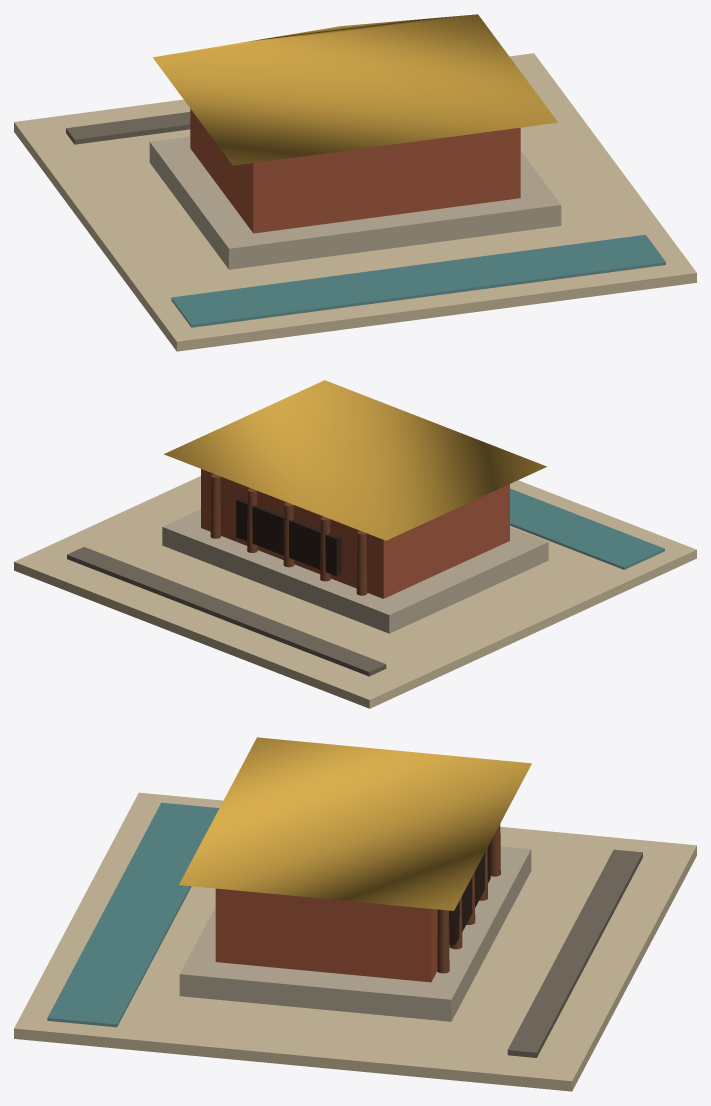
Rendered from model-medium.glb.
3 views of the same model, one above another, from view 1: azimuth 30°, elevation 25°; view 2: azimuth 150°, elevation 25°; view 3: azimuth 270°, elevation 25° (orthographic). The views are drawn at different scales.
Parts seen in each view (by area): view 1: context_site_plinth, sweeping_tiled_roof, main_hall_wall_volume, raised_ceremonial_platform, context_water_edge, front_scale_strip; view 2: context_site_plinth, sweeping_tiled_roof, raised_ceremonial_platform, main_hall_wall_volume, front_scale_strip, context_water_edge, central_shadow_door, front_column_5, front_column_1, front_column_2; view 3: context_site_plinth, sweeping_tiled_roof, main_hall_wall_volume, raised_ceremonial_platform, context_water_edge, front_scale_strip, central_shadow_door, front_column_5.
Boxes of the visible parts, box(x1,y1,x2,y2) form: context_site_plinth: box(14, 53, 696, 351); sweeping_tiled_roof: box(153, 14, 557, 165); main_hall_wall_volume: box(190, 109, 520, 233); raised_ceremonial_platform: box(149, 136, 561, 269); context_water_edge: box(171, 234, 665, 327); front_scale_strip: box(66, 112, 190, 144); context_site_plinth: box(14, 476, 696, 708); sweeping_tiled_roof: box(164, 380, 546, 540); raised_ceremonial_platform: box(162, 509, 548, 633); main_hall_wall_volume: box(201, 469, 509, 598); front_scale_strip: box(67, 547, 386, 676); context_water_edge: box(510, 488, 664, 569); central_shadow_door: box(236, 498, 341, 576); front_column_5: box(210, 474, 220, 538); front_column_1: box(356, 531, 367, 595); front_column_2: box(320, 516, 330, 581); context_site_plinth: box(14, 792, 696, 1091); sweeping_tiled_roof: box(179, 737, 531, 910); main_hall_wall_volume: box(215, 888, 449, 982); raised_ceremonial_platform: box(179, 846, 531, 1021); context_water_edge: box(47, 802, 219, 1027); front_scale_strip: box(507, 849, 642, 1057); central_shadow_door: box(449, 842, 490, 944); front_column_5: box(437, 909, 449, 973).
Size of the model in its own units: 9.55 by 2.62 by 9.55.
